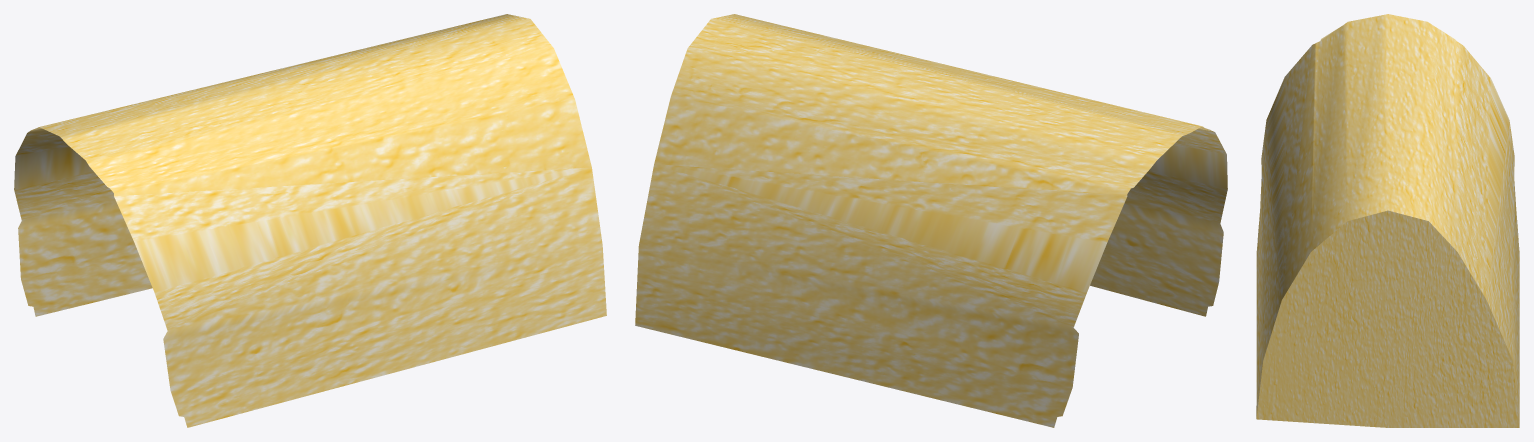
Rendered from entrada.obj.
3 views of the same model, side by side, from view 1: azimuth 30°, elevation 25°; view 2: azimuth 150°, elevation 25°; view 3: azimuth 270°, elevation 25° (orthographic). The views are drawn at different scales.
Visible parts, largest first — view 1: polySurface2 pasted__pCylinder2; view 2: polySurface2 pasted__pCylinder2; view 3: polySurface2 pasted__pCylinder2.
Part boxes in pixels (x1=…): polySurface2 pasted__pCylinder2: x1=14, y1=14, x2=606, y2=427; polySurface2 pasted__pCylinder2: x1=635, y1=14, x2=1227, y2=427; polySurface2 pasted__pCylinder2: x1=1256, y1=14, x2=1519, y2=427.
Size of the model in its own units: 6.33 by 3.22 by 3.53.
Materials: 1 (1 with a texture image).
